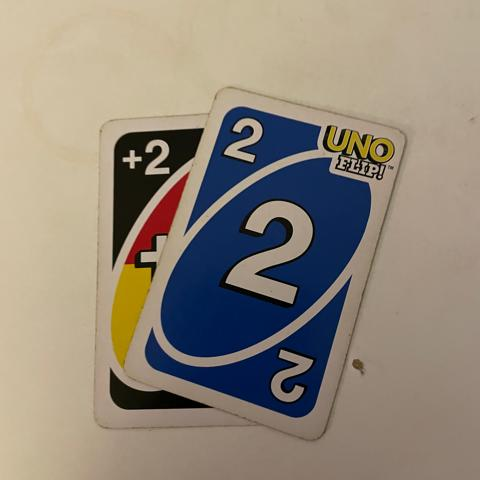lblue-2: (218, 106, 273, 177)
lcolor2-50: (111, 130, 173, 184)
